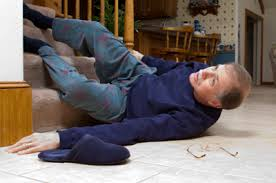falling: (20, 5, 258, 166)
